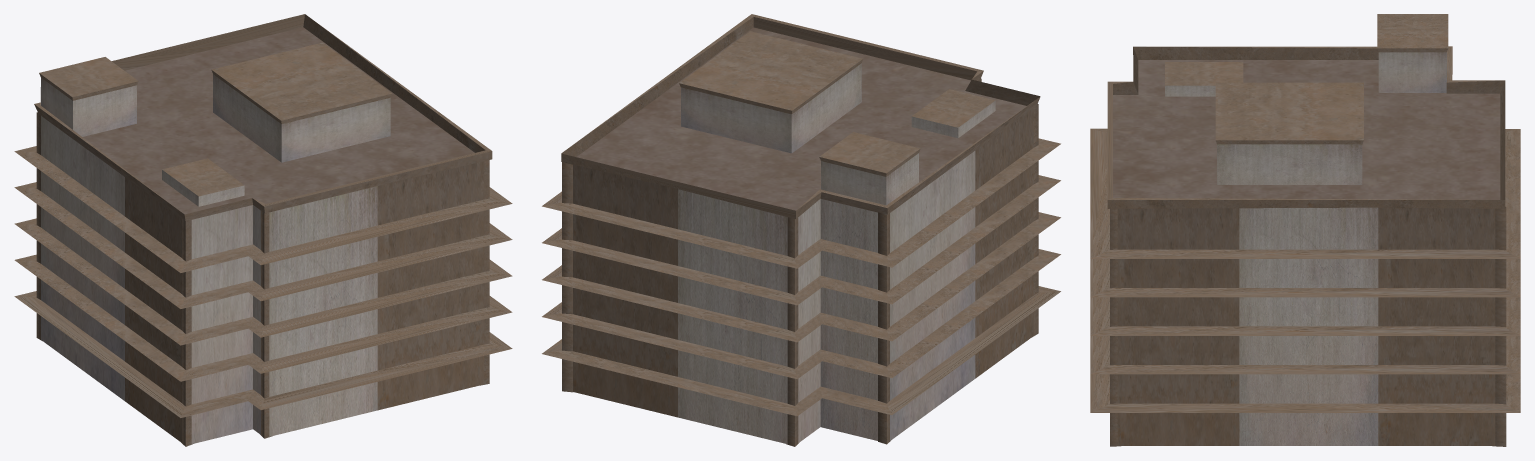
File: ORB_5_Single_S6_Detail_3.fbx
3 renders of one model, left to right at view 1: azimuth 30°, elevation 25°; view 2: azimuth 150°, elevation 25°; view 3: azimuth 270°, elevation 25°, orthographic. The views are drawn at different scales.
Parts seen in each view (by area): view 1: ORB_5_Single_S6_Detail_3; view 2: ORB_5_Single_S6_Detail_3; view 3: ORB_5_Single_S6_Detail_3.
Boxes of the visible parts, x1,y1,x2,y2 form: ORB_5_Single_S6_Detail_3: (14, 14, 512, 446); ORB_5_Single_S6_Detail_3: (542, 14, 1060, 446); ORB_5_Single_S6_Detail_3: (1090, 14, 1520, 446).
Size of the model in its own units: 2441 by 1933 by 2676.
